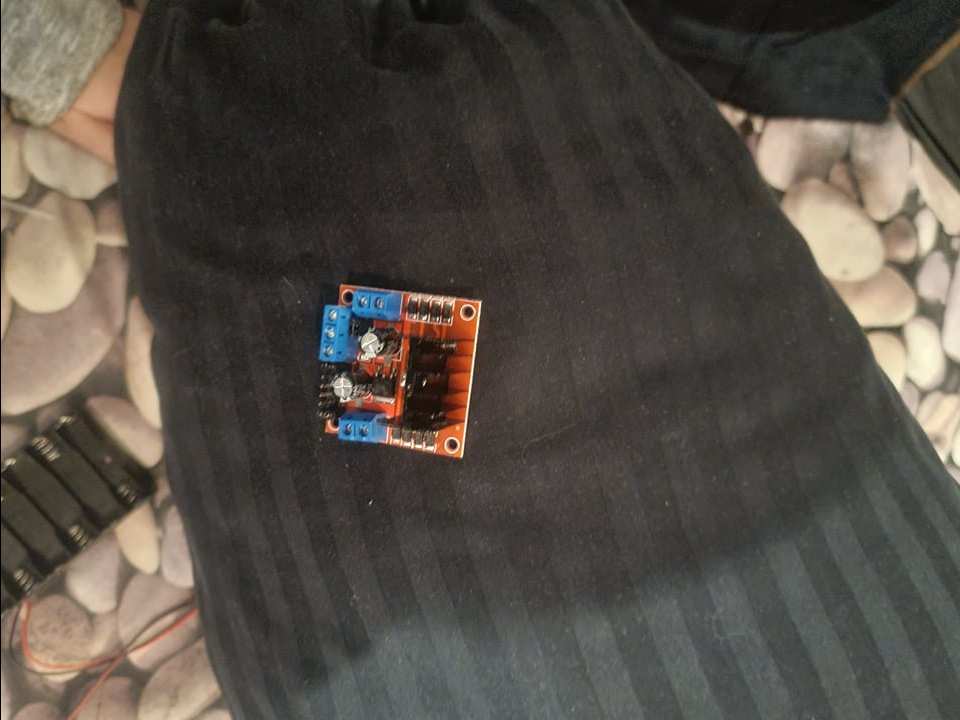MOTOR: (312, 281, 484, 459)
